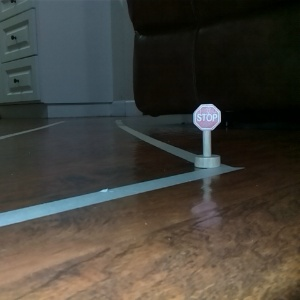stop sign: (190, 101, 223, 170)
